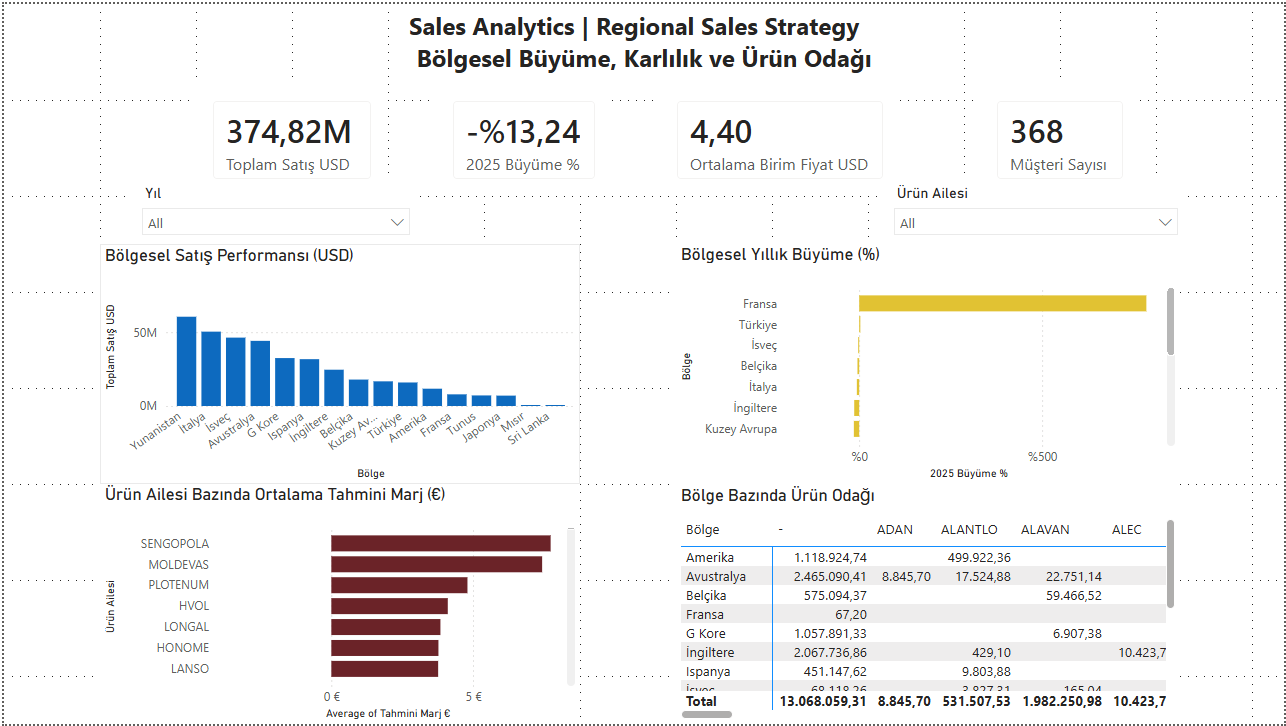

This screenshot's page, from the dashboard's own definition file:
{"tool":"powerbi","page":{"name":"03 - Regional Sales Strategy","canvas":[1280,720],"ordinal":2},"visuals":[{"type":"textbox","box":[400,0,480,80],"z":0},{"type":"cardVisual","fields":{"Data":["FactSales.Ortalama Birim Fiyat USD"]},"box":[656,80,240,112],"z":1000},{"type":"cardVisual","fields":{"Data":["FactSales.Müşteri Sayısı"]},"box":[976,80,160,112],"z":2000},{"type":"cardVisual","fields":{"Data":["FactSales.2025 Büyüme %"]},"box":[432,80,176,112],"z":3000},{"type":"cardVisual","fields":{"Data":["FactSales.Toplam Satış USD"]},"box":[192,80,192,112],"z":4000},{"type":"slicer","fields":{"Values":["DimDate.Yıl"]},"box":[128,176,288,64],"z":5000},{"type":"slicer","fields":{"Values":["DimProduct.Ürün Ailesi"]},"box":[880,176,304,64],"z":6000},{"type":"clusteredColumnChart","title":"Bölgesel Satış Performansı (USD)","fields":{"Category":["FactSales.Bölge"],"Y":["FactSales.Toplam Satış USD"]},"box":[96,240,480,240],"z":7000},{"type":"clusteredBarChart","title":"Bölgesel Yıllık Büyüme (%)","fields":{"Category":["FactSales.Bölge"],"Y":["FactSales.2025 Büyüme %"]},"box":[672,240,504,240],"z":8000},{"type":"pivotTable","title":"Bölge Bazında Ürün Odağı","fields":{"Columns":["DimProduct.Ürün Ailesi"],"Rows":["FactSales.Bölge"],"Values":["FactSales.Toplam Satış USD"]},"box":[672,480,504,240],"z":9000},{"type":"clusteredBarChart","title":"Ürün Ailesi Bazında Ortalama Tahmini Marj (€)","fields":{"Category":["DimProduct.Ürün Ailesi"],"Y":["Avg(DimProduct.Tahmini Marj €)"]},"box":[96,480,480,240],"z":10000}]}

Visuals, with their boxes in screenshot pixels (x1, y1, x2, y2), scaled from the page's 1280x720 canvas onto the 1286x726 screenshot:
textbox: bbox(402, 0, 884, 81)
cardVisual - FactSales.Ortalama Birim Fiyat USD: bbox(659, 81, 900, 194)
cardVisual - FactSales.Müşteri Sayısı: bbox(981, 81, 1141, 194)
cardVisual - FactSales.2025 Büyüme %: bbox(434, 81, 611, 194)
cardVisual - FactSales.Toplam Satış USD: bbox(193, 81, 386, 194)
slicer - DimDate.Yıl: bbox(129, 177, 418, 242)
slicer - DimProduct.Ürün Ailesi: bbox(884, 177, 1190, 242)
"Bölgesel Satış Performansı (USD)" clusteredColumnChart: bbox(96, 242, 579, 484)
"Bölgesel Yıllık Büyüme (%)" clusteredBarChart: bbox(675, 242, 1182, 484)
"Bölge Bazında Ürün Odağı" pivotTable: bbox(675, 484, 1182, 725)
"Ürün Ailesi Bazında Ortalama Tahmini Marj (€)" clusteredBarChart: bbox(96, 484, 579, 725)
